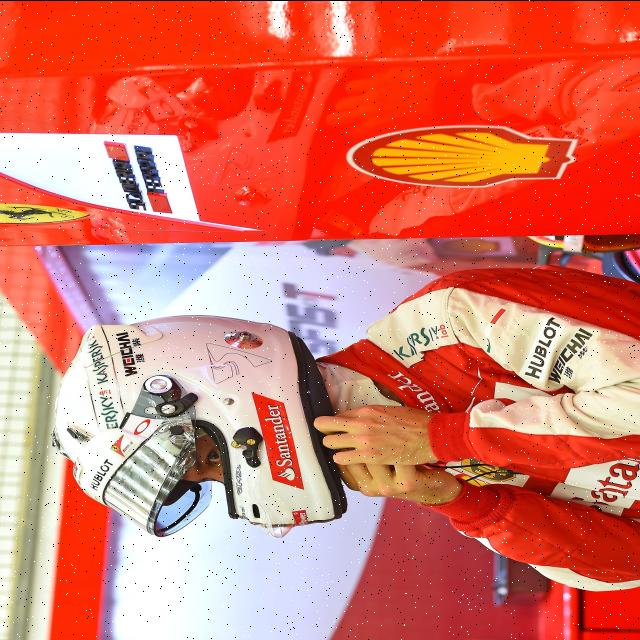Helmet: (50, 312, 342, 540)
